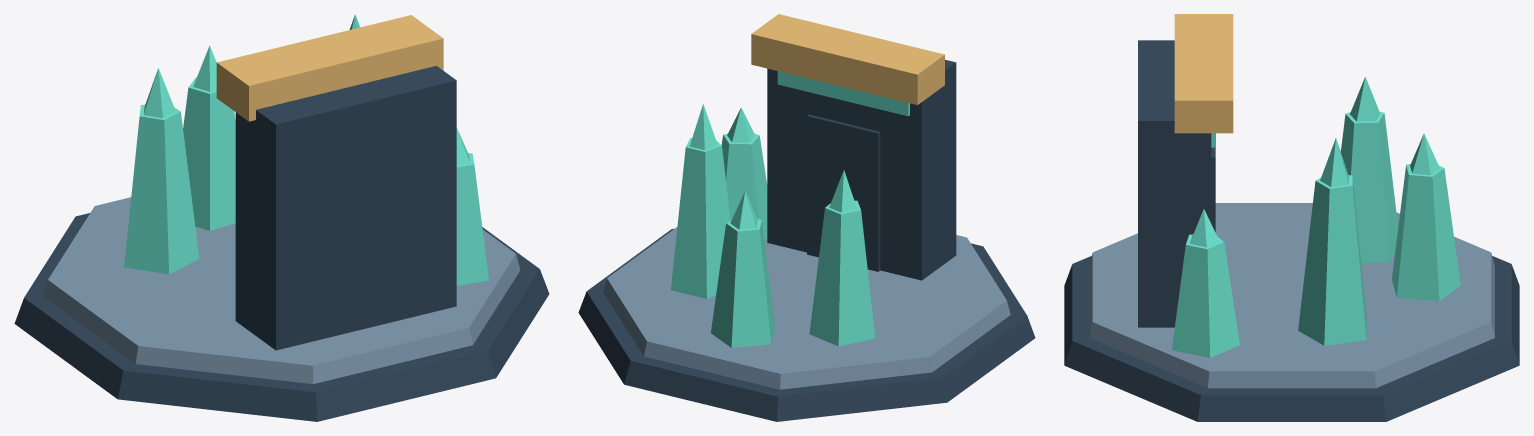
File: CrystalMine_2.fbx
The picture shows the model from 3 angles, left to right: view 1: azimuth 30°, elevation 25°; view 2: azimuth 150°, elevation 25°; view 3: azimuth 270°, elevation 25°; orthographic projection. The views are drawn at different scales.
Parts seen in each view (by area): view 1: CrystalMine_2; view 2: CrystalMine_2; view 3: CrystalMine_2.
Part boxes in pixels (x1,y1,x2,y2): CrystalMine_2: (14, 14, 549, 421); CrystalMine_2: (578, 14, 1035, 421); CrystalMine_2: (1064, 14, 1519, 421).
Size of the model in its own units: 2.9 by 1.88 by 2.9.
